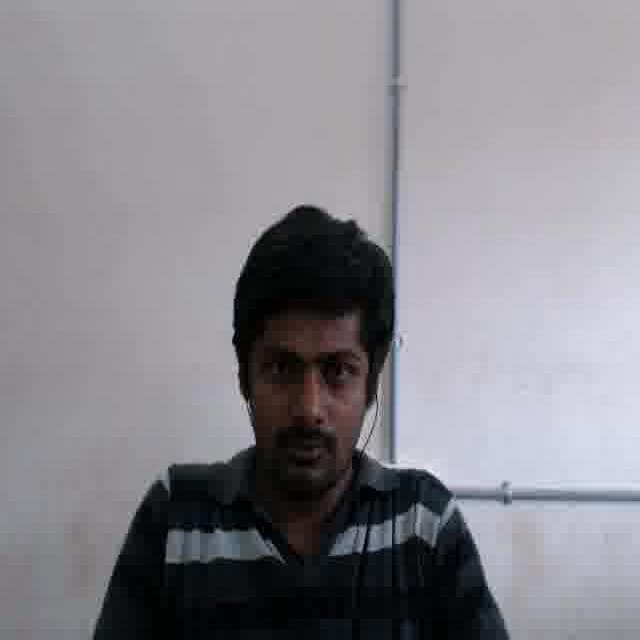Engaged: (246, 302, 364, 494)
